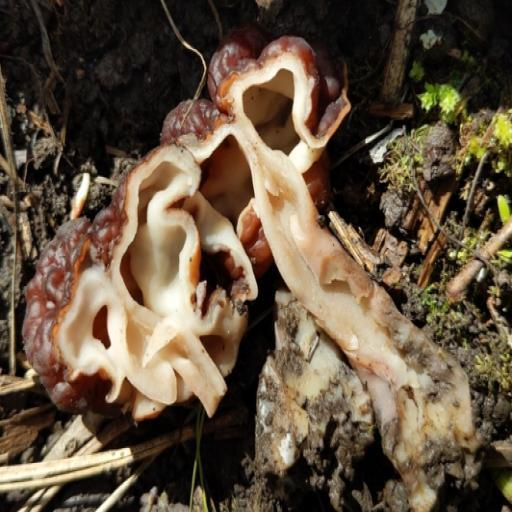mushroom: (149, 0, 506, 512), (0, 115, 291, 454)
